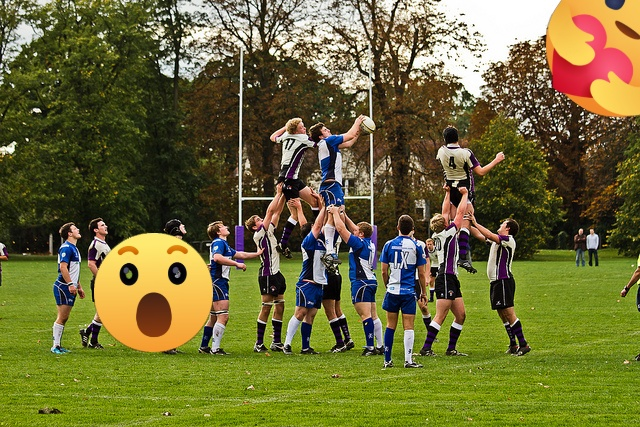care: (546, 0, 640, 117)
wow: (94, 233, 213, 352)
